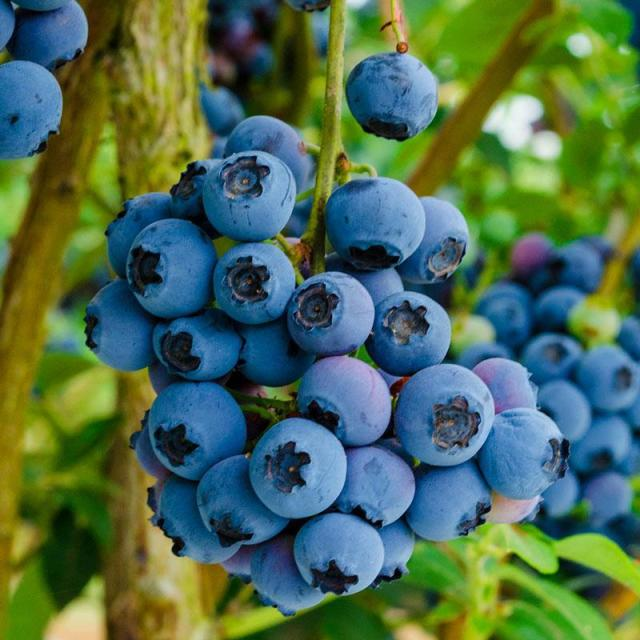BlueBerry - v1: (141, 373, 252, 490), (242, 411, 350, 526), (390, 356, 497, 470), (286, 344, 398, 450), (315, 172, 431, 272), (338, 44, 447, 150), (121, 214, 226, 324), (473, 399, 582, 502), (200, 146, 303, 250), (136, 476, 247, 572), (190, 450, 294, 550), (288, 508, 394, 606), (280, 266, 386, 358), (78, 269, 168, 377), (206, 234, 309, 328), (90, 180, 180, 286), (0, 50, 75, 177), (405, 453, 501, 551), (357, 283, 457, 377), (142, 302, 242, 385), (246, 531, 334, 625), (223, 308, 321, 391), (335, 440, 422, 530), (400, 196, 478, 294), (218, 111, 311, 191), (5, 1, 94, 77), (116, 402, 185, 491), (468, 351, 546, 425), (169, 152, 236, 238), (524, 377, 598, 454), (508, 323, 587, 395), (563, 406, 635, 485), (570, 336, 640, 414), (362, 516, 426, 594), (536, 239, 605, 302)
